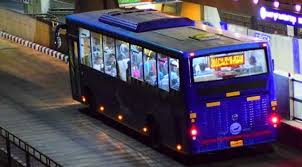Chigari: (52, 6, 287, 154)
